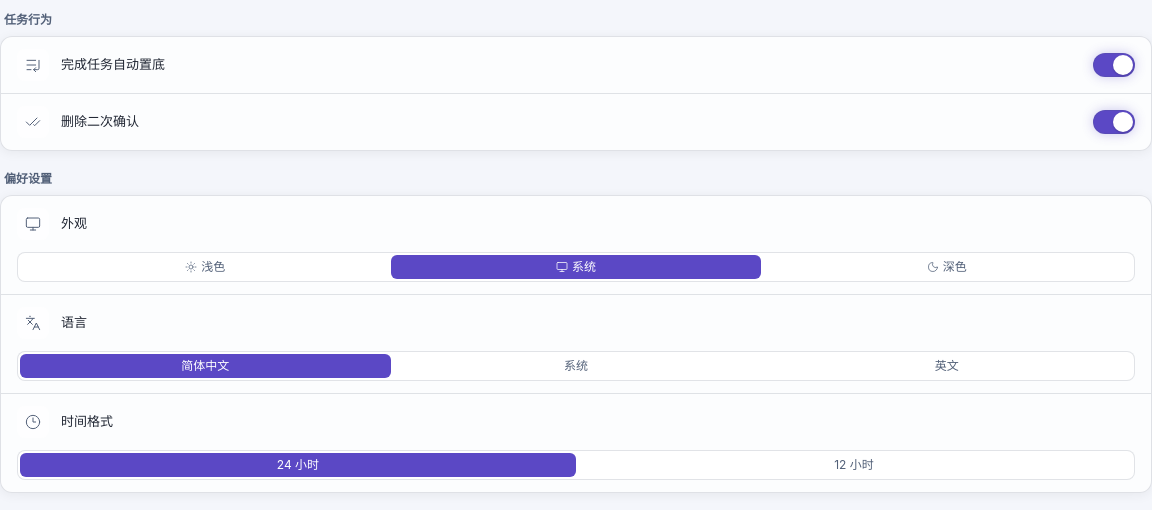
Test: SettingsGeneral › switches the interface language and persists it locally
Step 1. Click the button "英文" → (947, 366), box [761,354,1132,378]
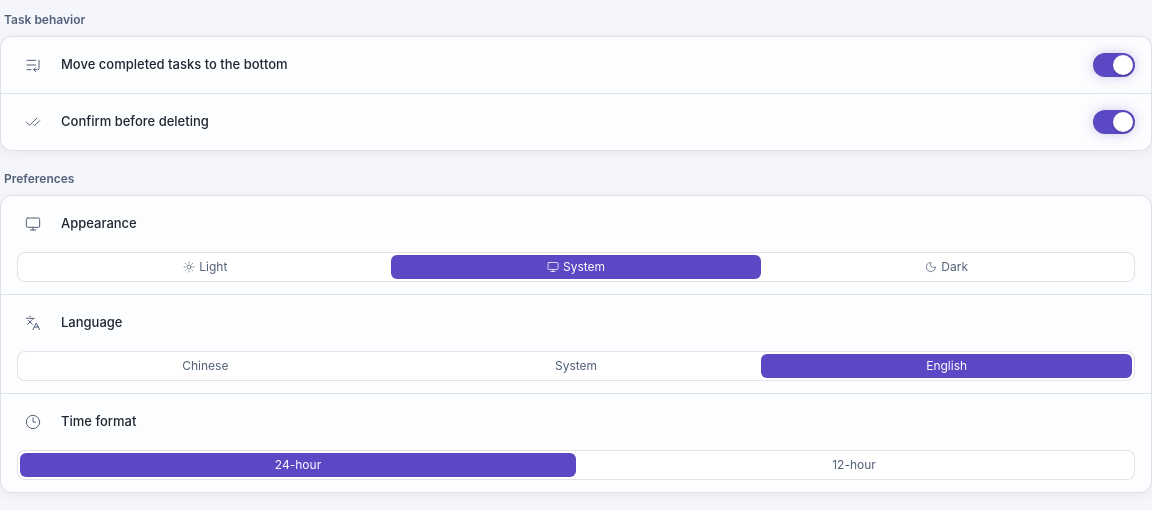
Now the text "Move completed tasks to the bottom" is shown, box [61,56,288,72]
Now the heading "Preferences" is shown, box [4,171,74,186]
Now the heading "Task behavior" is shown, box [4,12,85,27]
